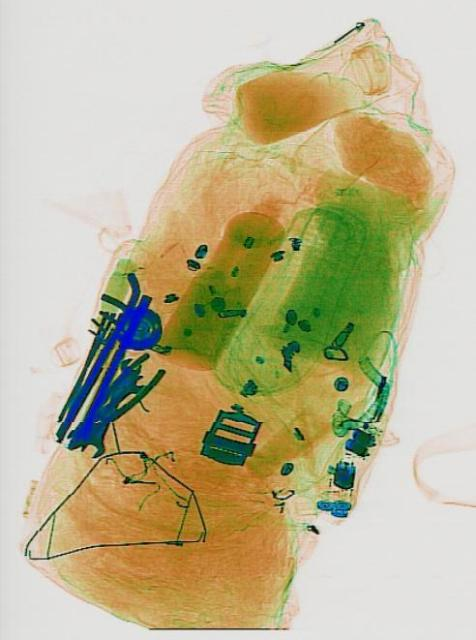Wrench: (75, 352, 146, 461)
